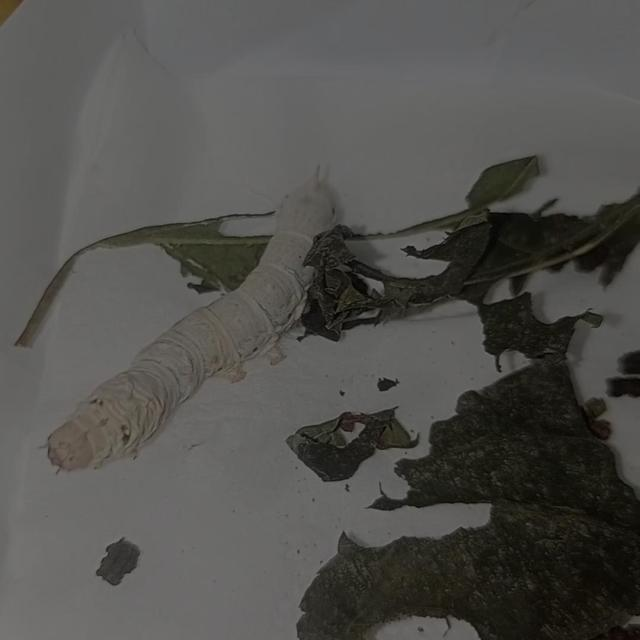Healthy: (31, 147, 378, 499)
